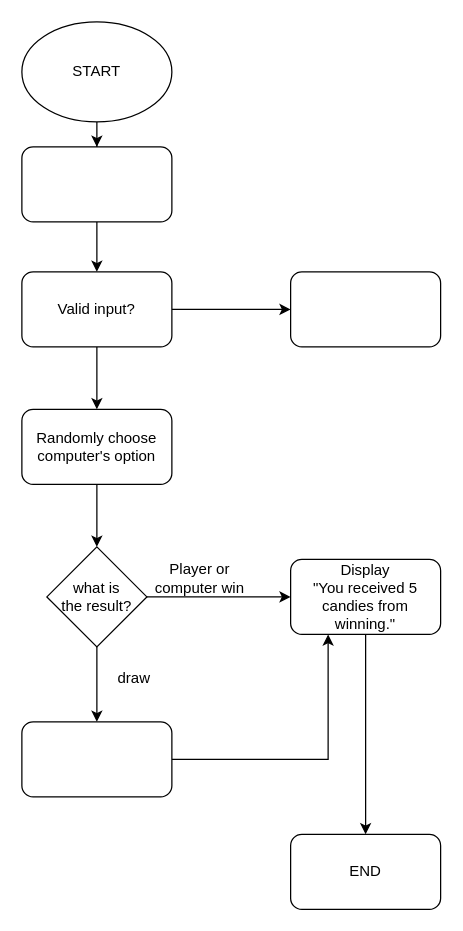
The diagram is 463 pixels wide and 931 high, and some of its shapes have lost their labels. Here are the shapes that lost their labels. From the top down, the centre of each, then its label:
[96,184]: Player choose rock / paper / scissors
[365,309]: Display "Invalid input"
[96,759]: play agin?
